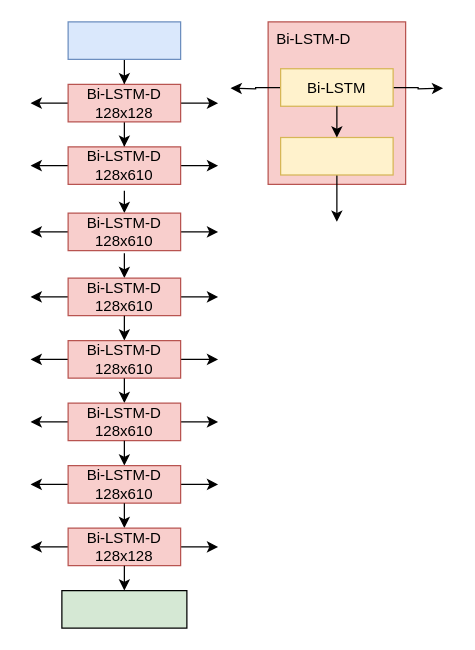
The diagram is 475 pixels wide and 650 high, and some of its shapes have lost their labels. Each missing label, with the centre of its shape:
"Drop-out (p=0.2)" belongs at point 336,155.
"Fully Connected 128x128" belongs at point 124,608.
"Input" belongs at point 124,40.
